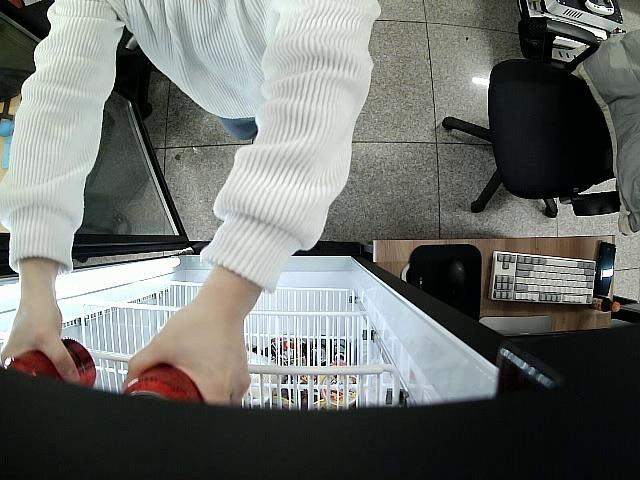11_cocaColaZero: (3, 336, 98, 386), (120, 365, 205, 406)
